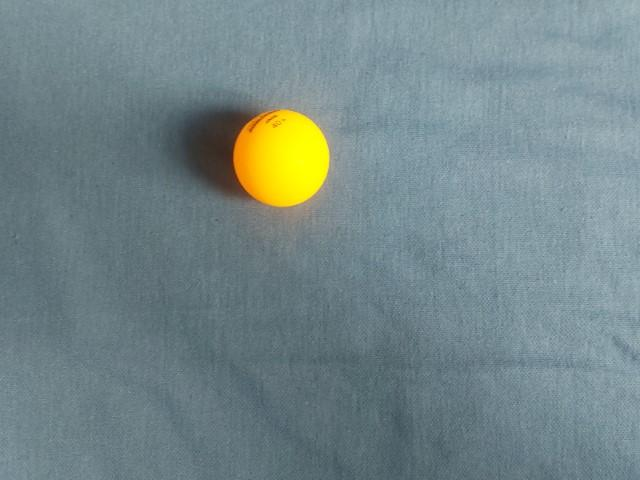oball: (304, 269, 410, 376)
